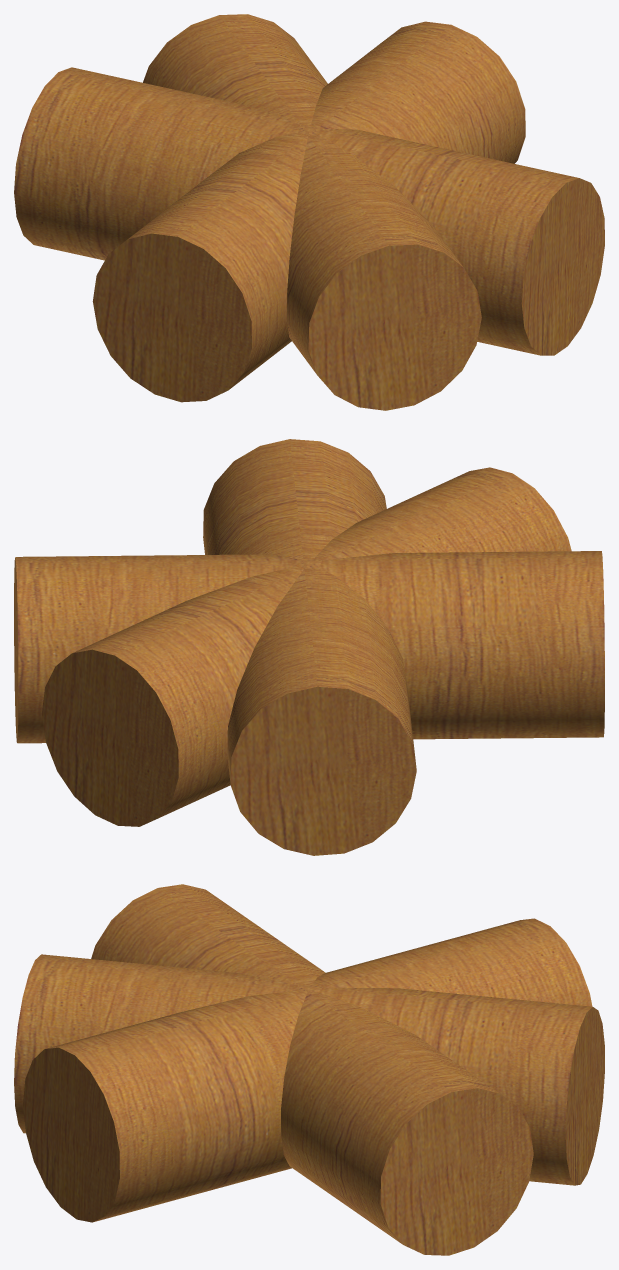
Rendered from logs.obj.
The picture shows the model from 3 angles, top to bottom: view 1: azimuth 30°, elevation 25°; view 2: azimuth 150°, elevation 25°; view 3: azimuth 270°, elevation 25°; orthographic projection. The views are drawn at different scales.
Visible parts, largest first — view 1: object_3, object_2, object_1; view 2: object_2, object_3, object_1; view 3: object_3, object_2, object_1.
Boxes of the visible parts, <box> form: object_3: <box>14,67,604,355</box>; object_2: <box>92,21,525,402</box>; object_1: <box>143,14,481,410</box>; object_2: <box>14,551,604,743</box>; object_3: <box>203,439,416,855</box>; object_1: <box>42,467,571,826</box>; object_3: <box>23,918,592,1222</box>; object_2: <box>91,884,533,1255</box>; object_1: <box>14,954,604,1185</box>.
Size of the model in its own units: 12.29 by 3.84 by 12.6.
1 material, 1 textured.
